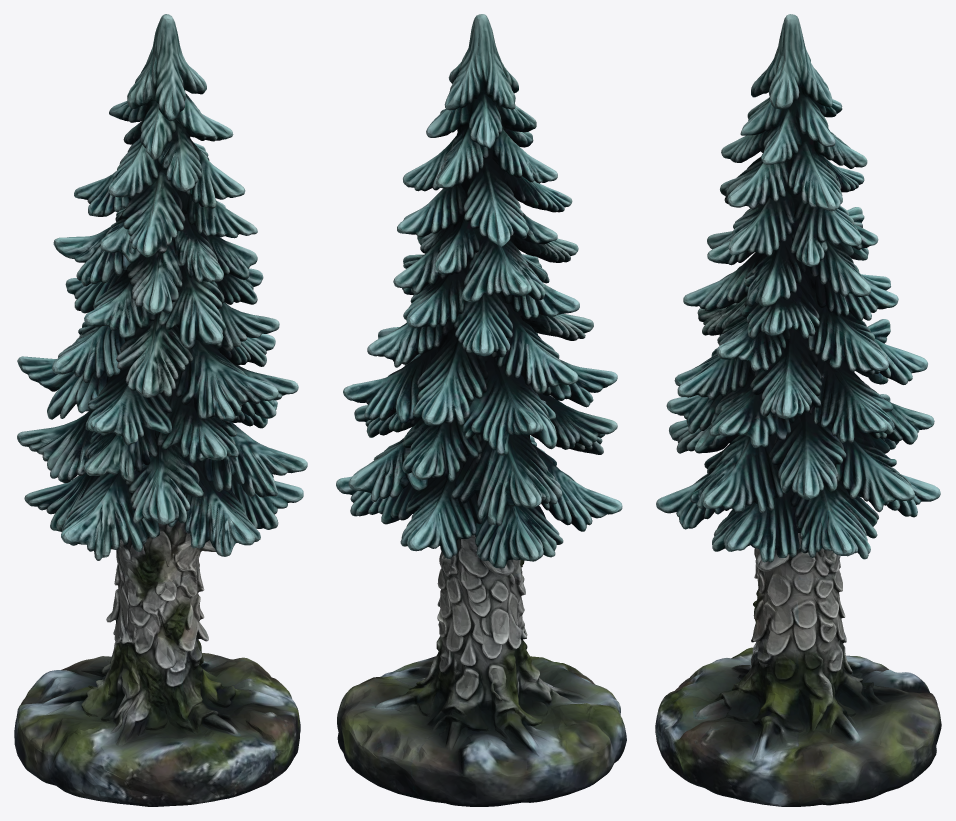
Rendered from sitka-spruce.glb.
The picture shows the model from 3 angles, left to right: view 1: azimuth 30°, elevation 25°; view 2: azimuth 150°, elevation 25°; view 3: azimuth 270°, elevation 25°; orthographic projection.
Visible parts, largest first — view 1: world; view 2: world; view 3: world.
Part boxes in pixels (bbox=[...]): world: bbox=[14, 14, 307, 806]; world: bbox=[336, 14, 626, 806]; world: bbox=[655, 14, 941, 806].
Size of the model in its own units: 0.3534 by 0.9935 by 0.351.
1 material, 1 textured.
